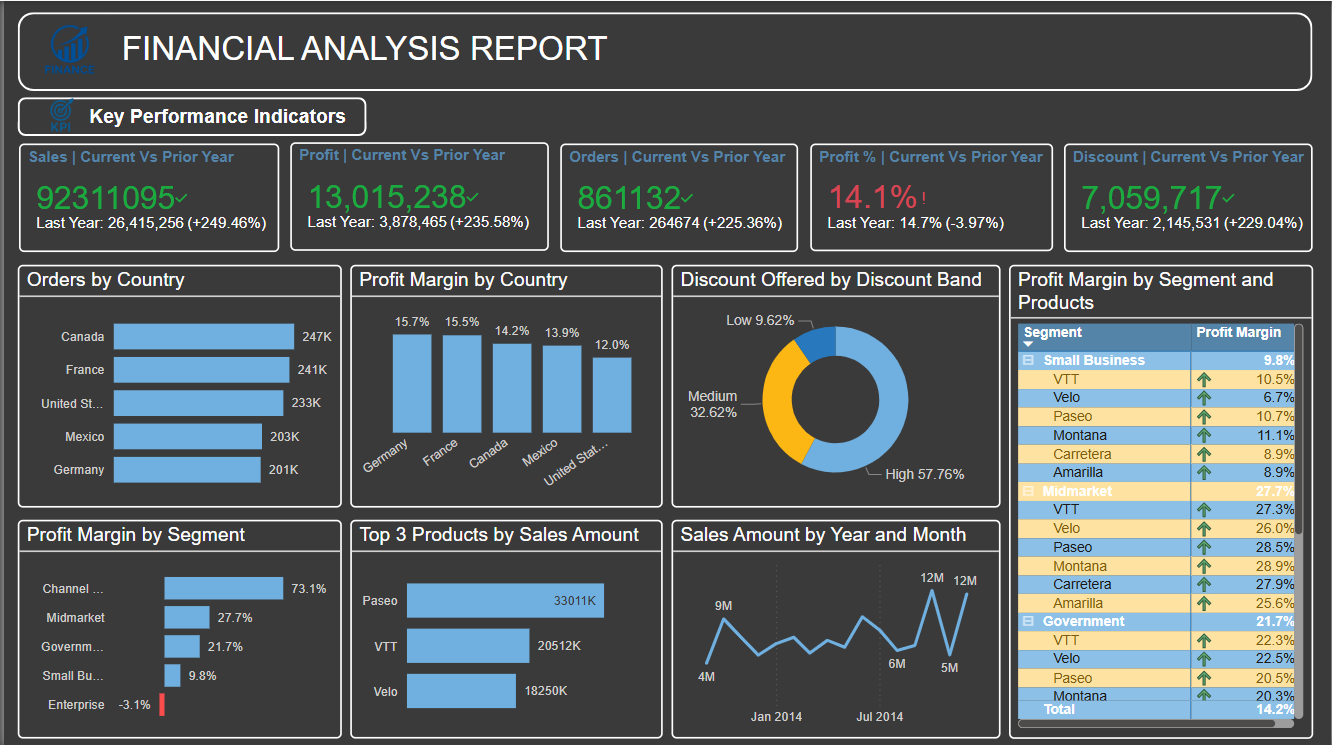

This screenshot's page, from the dashboard's own definition file:
{"tool":"powerbi","page":{"name":"Page 1","canvas":[1280,720],"ordinal":0},"visuals":[{"type":"shape","box":[13.3,10.9,1249.9,76],"z":0},{"type":"textbox","box":[108.6,22.9,518.8,53.1],"z":1000},{"type":"textbox","box":[77.2,96.5,272.7,32.6],"z":2000},{"type":"kpi","title":"Sales | Current Vs Prior Year","fields":{"Indicator":["Analysis.Sales Amount"],"TrendLine":["Date Table.Year"],"Goal":["Analysis.Sales Amount LY"]},"box":[14.5,137.5,250.9,105],"z":3000},{"type":"kpi","title":"Profit | Current Vs Prior Year","fields":{"TrendLine":["Date Table.Year"],"Goal":["Analysis.Profit LY"],"Indicator":["Analysis.Profit"]},"box":[276.5,136.3,249.7,105],"z":4000},{"type":"kpi","title":"Orders | Current Vs Prior Year","fields":{"TrendLine":["Date Table.Year"],"Goal":["Analysis.Orders LY"],"Indicator":["Analysis.Orders"]},"box":[537.4,137.5,229.2,105],"z":5000},{"type":"kpi","title":"Profit % | Current Vs Prior Year","fields":{"TrendLine":["Date Table.Year"],"Goal":["Analysis.Profit Margin LY"],"Indicator":["Analysis.Profit Margin"]},"box":[777.7,137.2,234.6,104.3],"z":6000},{"type":"kpi","title":"Discount  | Current Vs Prior Year","fields":{"TrendLine":["Date Table.Year"],"Indicator":["Analysis.Discount Offered"],"Goal":["Analysis.Discount Offered LY"]},"box":[1023.5,137,239.7,105.2],"z":7000},{"type":"barChart","fields":{"Category":["financials.Country"],"Y":["Analysis.Orders"]},"box":[13.3,254.6,312.5,234],"z":8000},{"type":"clusteredColumnChart","fields":{"Category":["financials.Country"],"Y":["Analysis.Profit Margin"]},"box":[334.1,254.6,301.6,234],"z":9000},{"type":"barChart","fields":{"Category":["financials.Segment"],"Y":["Analysis.Profit Margin"]},"box":[13.3,500.7,312.5,211.1],"z":10000},{"type":"donutChart","fields":{"Y":["Analysis.Discount Offered"],"Category":["financials.Discount Band"]},"box":[644.1,254.6,317.3,234],"z":11000},{"type":"barChart","title":"Top 3 Products by Sales Amount","fields":{"Category":["financials.Product"],"Y":["Analysis.Sales Amount"]},"box":[334.2,500.7,301.6,211.1],"z":12000},{"type":"lineChart","fields":{"Category":["Date Table.Date.Variation.Date Hierarchy.Year","Date Table.Date.Variation.Date Hierarchy.Month"],"Y":["Analysis.Sales Amount"]},"box":[644.2,500.7,317.3,211.1],"z":13000},{"type":"pivotTable","title":"Profit Margin by Segment and Products","fields":{"Rows":["financials.Segment","financials.Product"],"Values":["Analysis.Profit Margin"]},"box":[969.7,254.3,293.5,457.3],"z":14000},{"type":"shape","box":[13.3,92.9,336.6,37.4],"z":15000},{"type":"image","box":[0,7.2,127.9,84.5],"z":16000},{"type":"image","box":[14.5,83.2,82,54.3],"z":17000}]}

Visuals, with their boxes in screenshot pixels (x1, y1, x2, y2), scaled from the page's 1280x720 canvas onto the 1332x745 screenshot:
shape: <box>14,11,1315,90</box>
textbox: <box>113,24,653,79</box>
textbox: <box>80,100,364,134</box>
"Sales | Current Vs Prior Year" kpi: <box>15,142,276,251</box>
"Profit | Current Vs Prior Year" kpi: <box>288,141,548,250</box>
"Orders | Current Vs Prior Year" kpi: <box>559,142,798,251</box>
"Profit % | Current Vs Prior Year" kpi: <box>809,142,1053,250</box>
"Discount  | Current Vs Prior Year" kpi: <box>1065,142,1315,251</box>
barChart - financials.Country x Analysis.Orders: <box>14,263,339,506</box>
clusteredColumnChart - financials.Country x Analysis.Profit Margin: <box>348,263,662,506</box>
barChart - financials.Segment x Analysis.Profit Margin: <box>14,518,339,737</box>
donutChart - Analysis.Discount Offered x financials.Discount Band: <box>670,263,1000,506</box>
"Top 3 Products by Sales Amount" barChart: <box>348,518,662,737</box>
lineChart - Date Table.Date.Variation.Date Hierarchy.Year x Date Table.Date.Variation.Date Hierarchy.Month: <box>670,518,1001,737</box>
"Profit Margin by Segment and Products" pivotTable: <box>1009,263,1315,736</box>
shape: <box>14,96,364,135</box>
image: <box>0,7,133,95</box>
image: <box>15,86,100,142</box>
